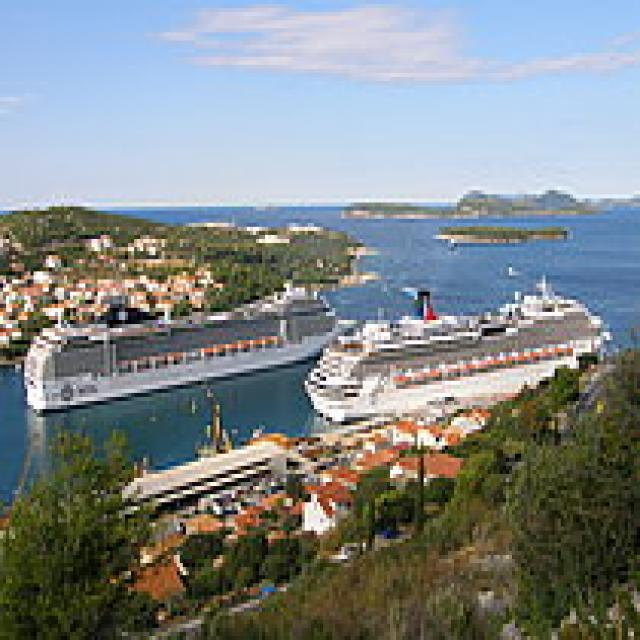Ship: (303, 277, 629, 431), (19, 277, 367, 419)
